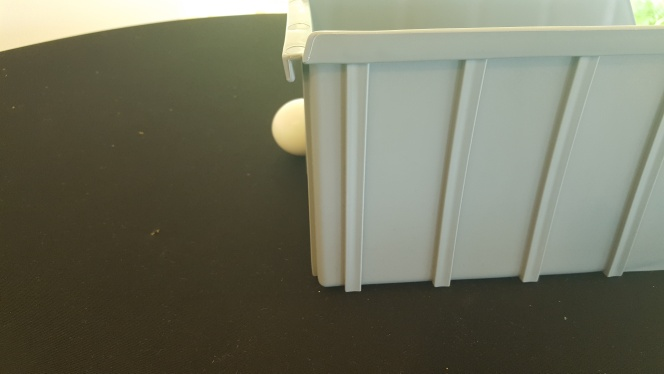egg: (271, 95, 306, 156)
tray_left: (281, 2, 664, 294)
